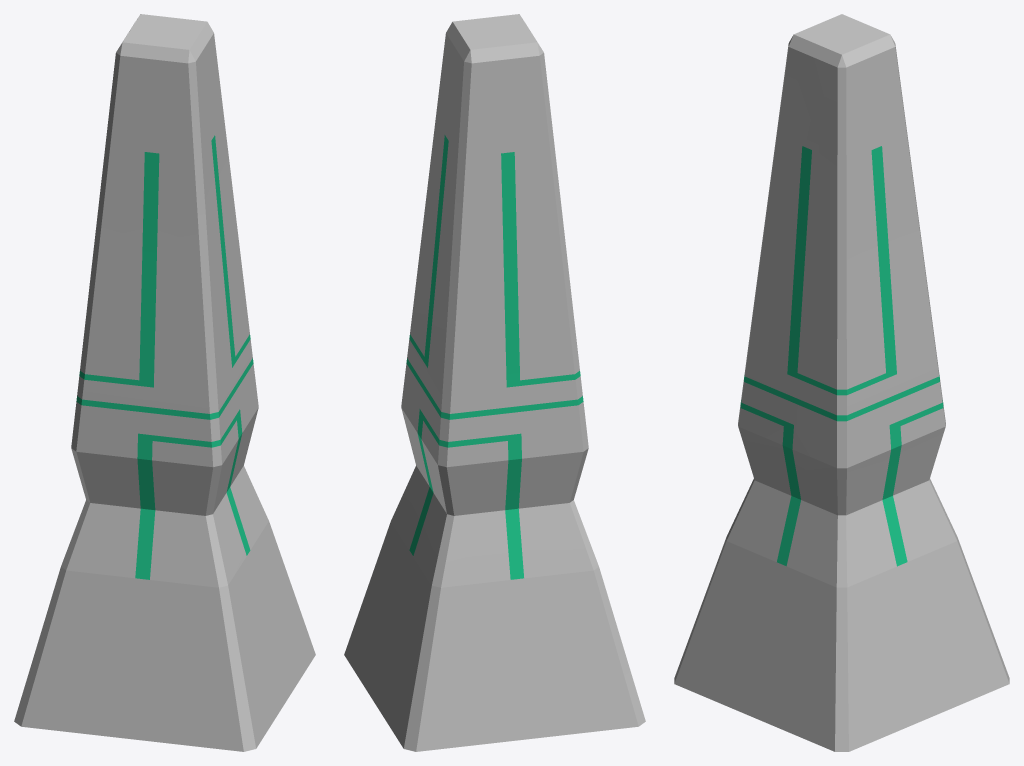
File: Spire_large.fbx
The picture shows the model from 3 angles, left to right: view 1: azimuth 30°, elevation 25°; view 2: azimuth 150°, elevation 25°; view 3: azimuth 270°, elevation 25°; orthographic projection.
Visible parts, largest first — view 1: spire_large; view 2: spire_large; view 3: spire_large.
Boxes of the visible parts, x1,y1,x2,y2 form: spire_large: [14, 14, 315, 751]; spire_large: [344, 14, 645, 751]; spire_large: [674, 14, 1009, 751].
Bounding box in the file's own units: 1151 × 2449 × 1151.
